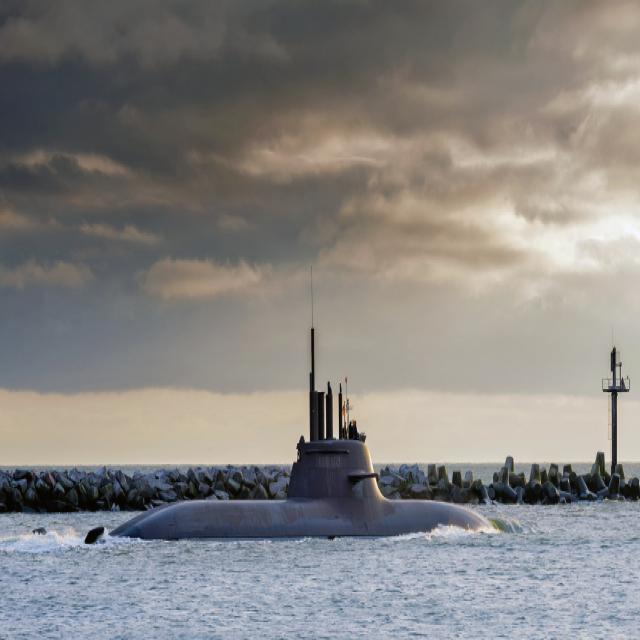submarine: (82, 307, 500, 533)
